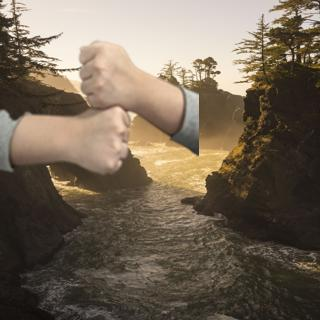CAREFUL: (19, 41, 189, 176)
